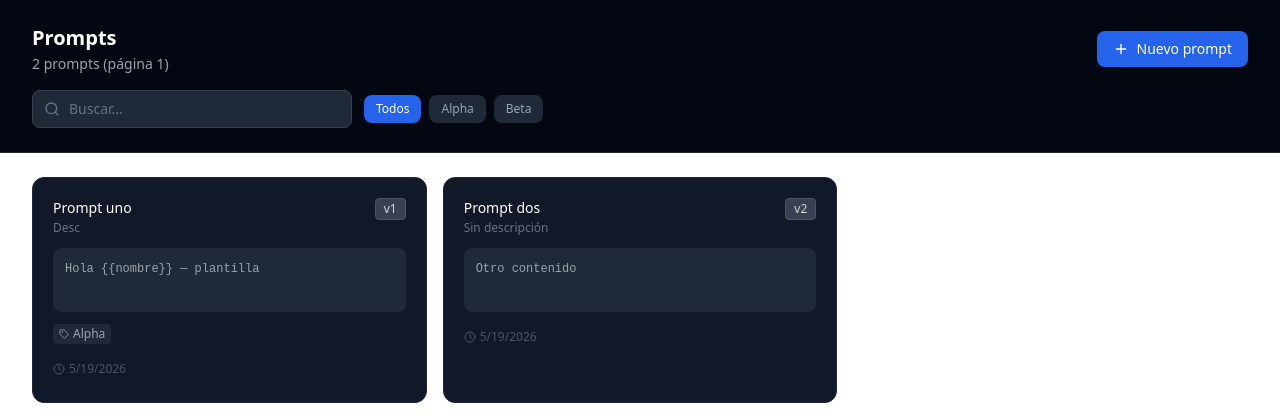
Test: PromptsPage › la búsqueda filtra por texto
Expected: the heading "Prompt uno" is shown, [53, 198, 132, 217]
In the field with placeholder "Buscar...": (192, 109) [32, 90, 352, 128], type "dos"
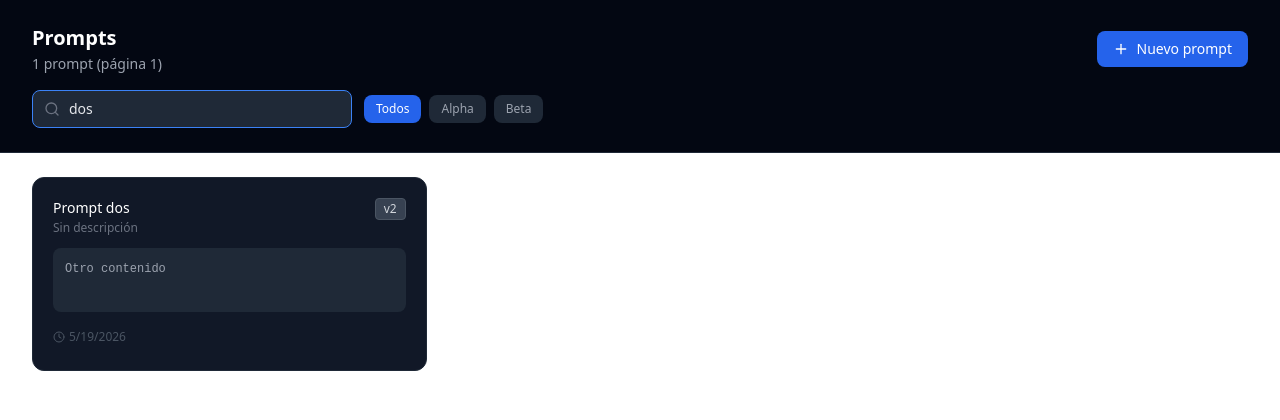
Expected: the heading "Prompt dos" is shown, [53, 198, 130, 217]
Now the link "Prompt uno" is gone
